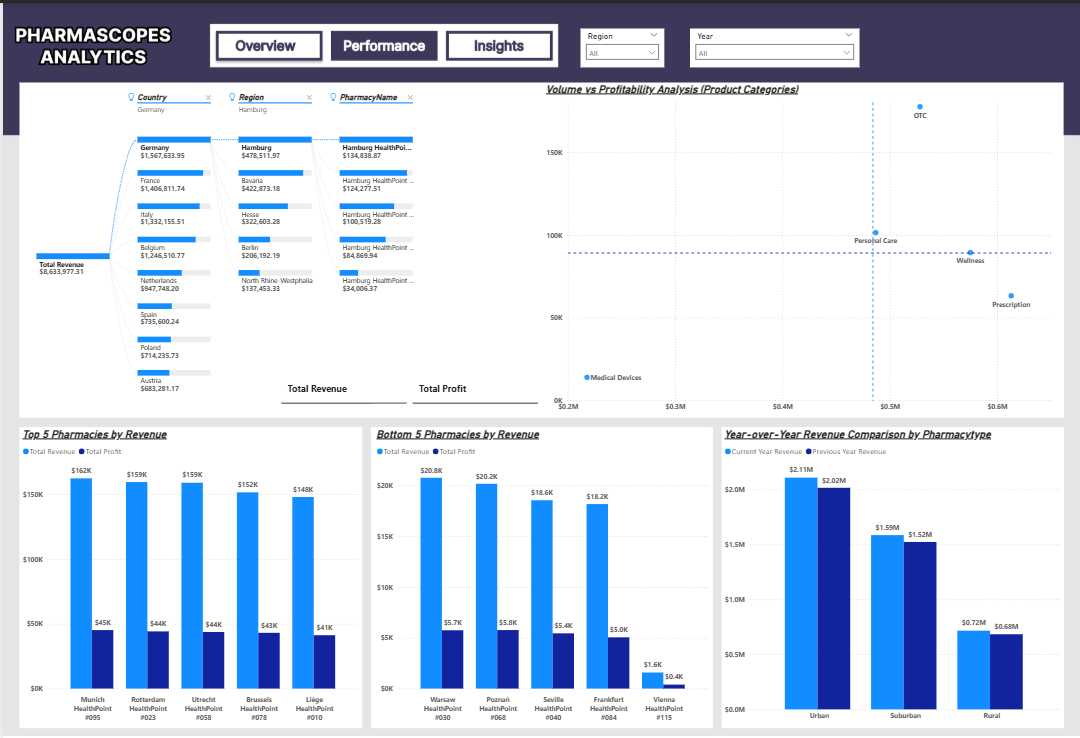

This screenshot's page, from the dashboard's own definition file:
{"tool":"powerbi","page":{"name":"Performance","canvas":[1920,1311],"ordinal":1},"visuals":[{"type":"scatterChart","title":"Volume vs Profitability Analysis (Product Categories)","fields":{"X":["FactSales.Profit"],"Y":["FactSales.Total Units Sold"],"Category":["DimProduct.Category"]},"box":[961.9,141.6,927.2,595.8],"z":0},{"type":"slicer","fields":{"Values":["DimPharmacy.Region"]},"box":[1028.7,45.4,149.6,69.5],"z":1000},{"type":"clusteredColumnChart","title":"Top 5 Pharmacies by Revenue","fields":{"Y":["FactSales.Total Revenue","FactSales.Total Profit"],"Category":["DimPharmacy.PharmacyName"]},"box":[29.4,756.2,609.2,531.7],"z":2000},{"type":"clusteredColumnChart","title":"Bottom 5 Pharmacies by Revenue","fields":{"Y":["FactSales.Total Revenue","FactSales.Total Profit"],"Category":["DimPharmacy.PharmacyName"]},"box":[660,756.2,601.2,531.7],"z":3000},{"type":"clusteredColumnChart","title":"Year-over-Year Revenue Comparison by Pharmacytype","fields":{"Category":["DimPharmacy.PharmacyType"],"Y":["FactSales.Current Year Revenue","FactSales.Previous Year Revenue"]},"box":[1279.9,756.2,609.2,531.7],"z":4000},{"type":"decompositionTreeVisual","fields":{"Analyze":["FactSales.Total Revenue"],"ExplainBy":["DimPharmacy.Country","DimPharmacy.Region","DimPharmacy.PharmacyName"]},"box":[29.4,141.6,932.5,595.8],"z":5000},{"type":"advancedSlicerVisual","fields":{"Values":["Total revenue/Total profit.Total revenue/Total profit"]},"box":[489,654.6,470.3,64.1],"z":6000},{"type":"slicer","fields":{"Values":["DimDate.Year"]},"box":[1223.7,45.4,301.9,69.5],"z":6001}]}

Visuals, with their boxes in screenshot pixels (x1, y1, x2, y2), scaled from the page's 1920x1311 canvas onto the 1080x738 screenshot:
"Volume vs Profitability Analysis (Product Categories)" scatterChart: {"x1": 541, "y1": 80, "x2": 1063, "y2": 415}
slicer - DimPharmacy.Region: {"x1": 579, "y1": 26, "x2": 663, "y2": 65}
"Top 5 Pharmacies by Revenue" clusteredColumnChart: {"x1": 17, "y1": 426, "x2": 359, "y2": 725}
"Bottom 5 Pharmacies by Revenue" clusteredColumnChart: {"x1": 371, "y1": 426, "x2": 709, "y2": 725}
"Year-over-Year Revenue Comparison by Pharmacytype" clusteredColumnChart: {"x1": 720, "y1": 426, "x2": 1063, "y2": 725}
decompositionTreeVisual - FactSales.Total Revenue x DimPharmacy.Country: {"x1": 17, "y1": 80, "x2": 541, "y2": 415}
advancedSlicerVisual - Total revenue/Total profit.Total revenue/Total profit: {"x1": 275, "y1": 368, "x2": 540, "y2": 405}
slicer - DimDate.Year: {"x1": 688, "y1": 26, "x2": 858, "y2": 65}
